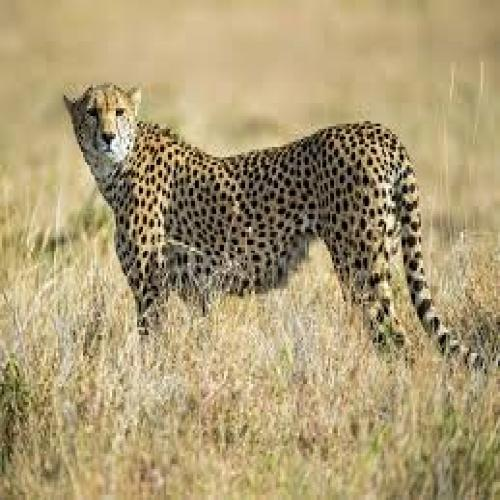cheetah-endangered: (63, 80, 491, 377)
